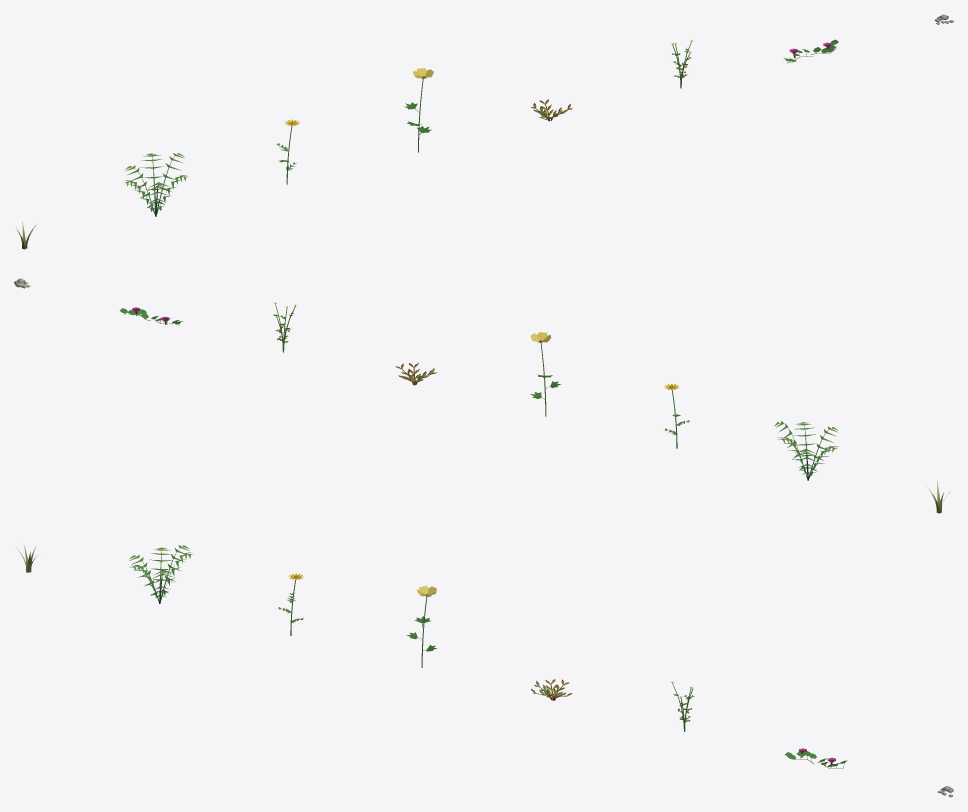
File: plants.glb
3 views of the same model, one above another, from view 1: azimuth 30°, elevation 25°; view 2: azimuth 150°, elevation 25°; view 3: azimuth 330°, elevation 25° (orthographic).
Visible parts, largest first — view 1: fern; view 2: fern; view 3: fern.
Boxes of the visible parts, bbox=[...] form: fern: bbox=[123, 153, 187, 216]; fern: bbox=[774, 421, 838, 480]; fern: bbox=[129, 545, 193, 603].
Bounding box in the file's own units: 2.15 × 0.172 × 0.134.
